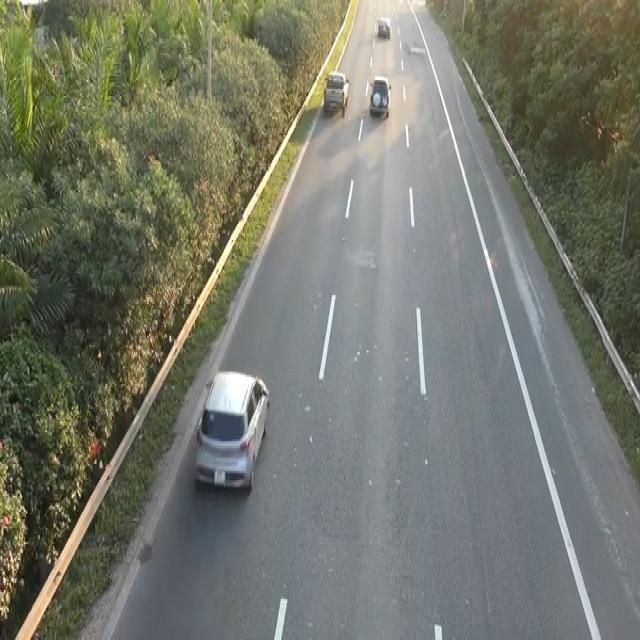bus: (192, 364, 271, 494)
car: (321, 68, 349, 116), (367, 73, 391, 119)
